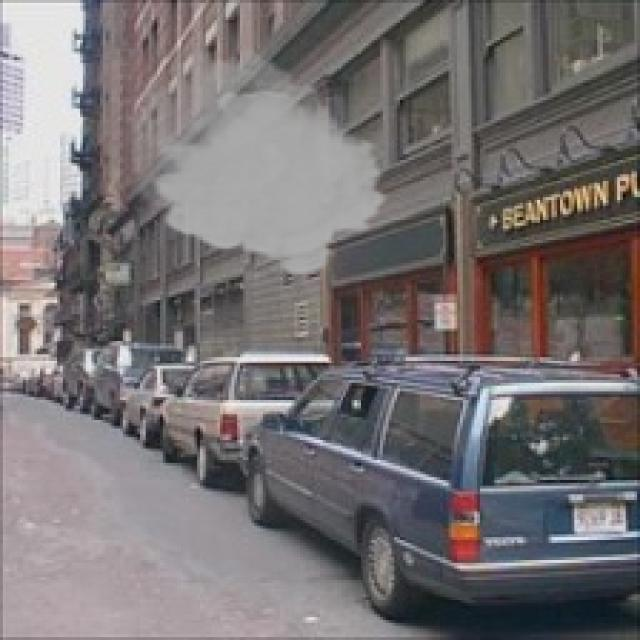Smoke: (132, 40, 392, 277)
